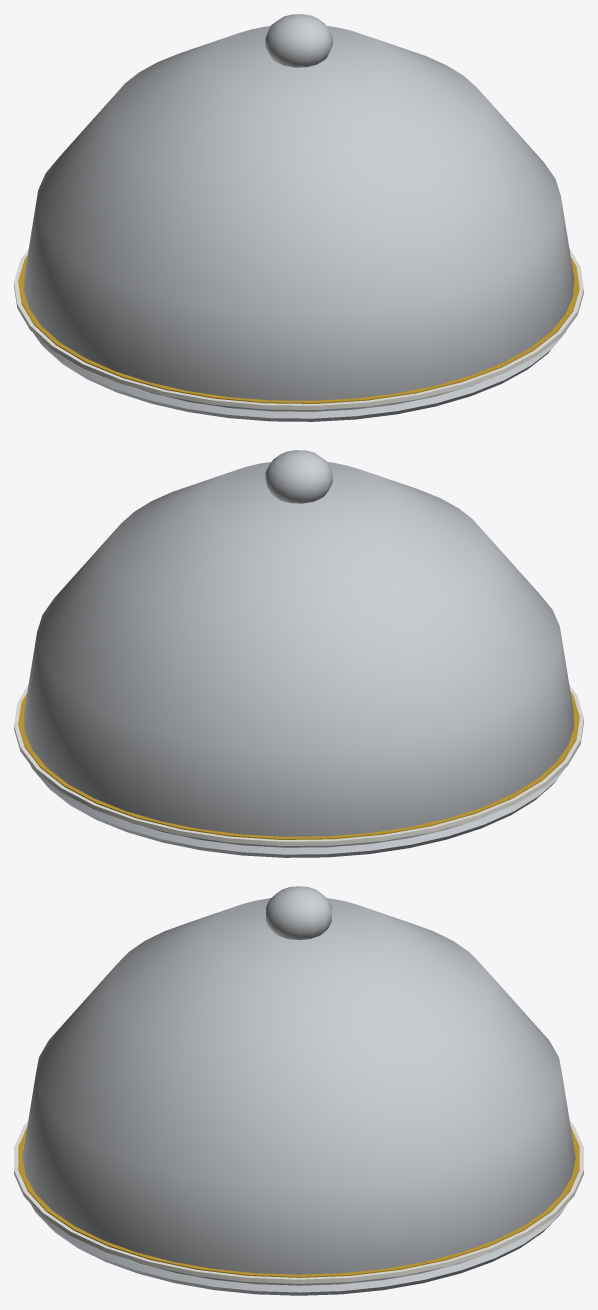
File: tray_cloche_hot_dish.glb
The picture shows the model from 3 angles, top to bottom: view 1: azimuth 30°, elevation 25°; view 2: azimuth 150°, elevation 25°; view 3: azimuth 270°, elevation 25°; orthographic projection.
Parts seen in each view (by area): view 1: tray_cloche_hot_dish; view 2: tray_cloche_hot_dish; view 3: tray_cloche_hot_dish.
Part boxes in pixels (left/top/right/bottom): tray_cloche_hot_dish: left=14, top=14, right=583, bottom=421; tray_cloche_hot_dish: left=14, top=450, right=583, bottom=857; tray_cloche_hot_dish: left=14, top=886, right=583, bottom=1295.
Size of the model in its own units: 0.3 by 0.175 by 0.2987.
